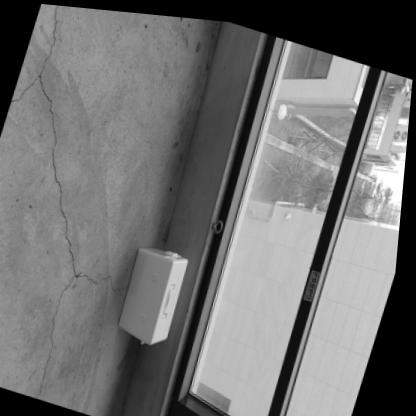DDL: (115, 236, 196, 347)
